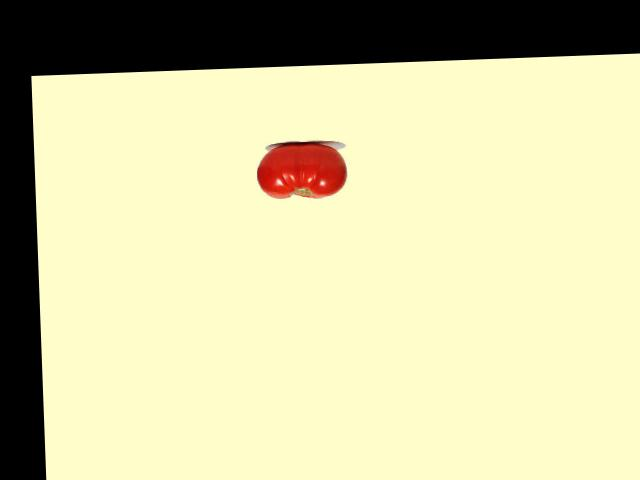tomato: (255, 142, 347, 200)
